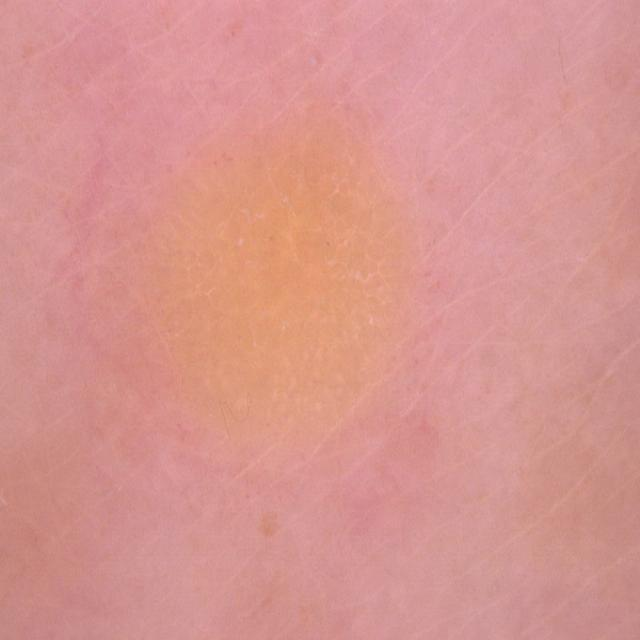Skin-Cancer Pigmented benign keratosis: (47, 56, 558, 581)
